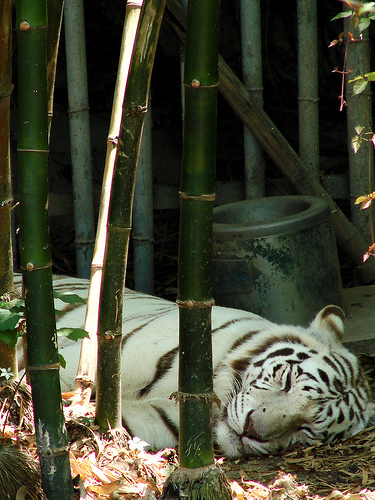Tigre: (63, 258, 375, 476)
